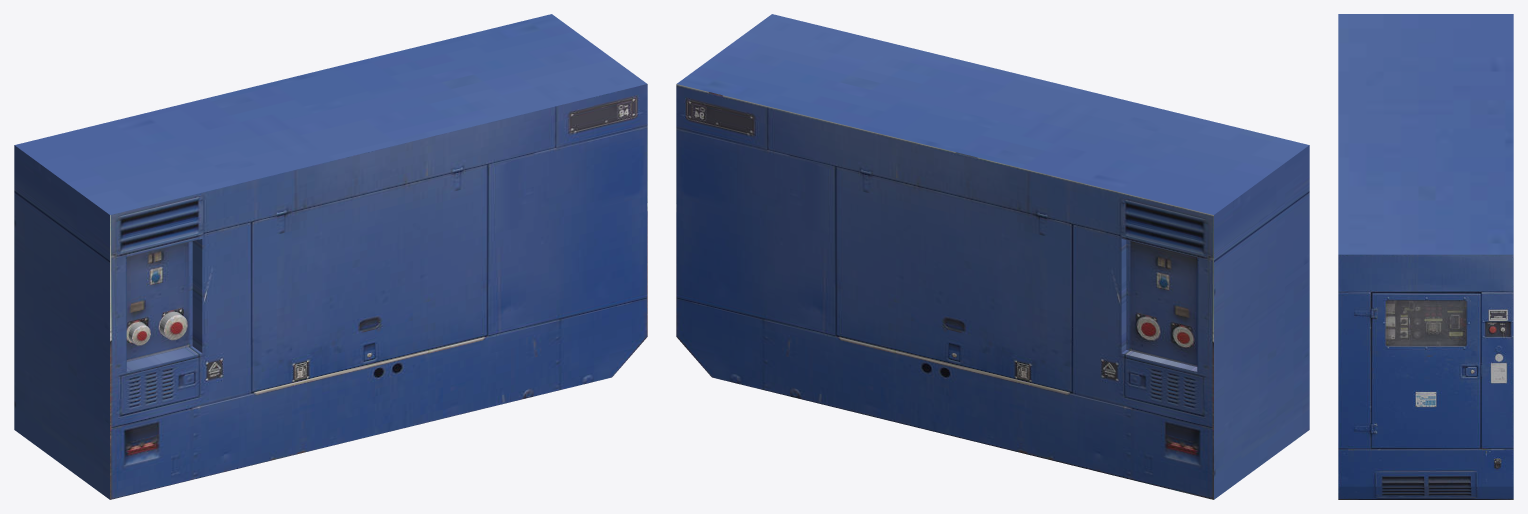
The model's file is generator.glb.
The picture shows the model from 3 angles, left to right: view 1: azimuth 30°, elevation 25°; view 2: azimuth 150°, elevation 25°; view 3: azimuth 270°, elevation 25°; orthographic projection. The views are drawn at different scales.
Visible parts, largest first — view 1: generator; view 2: generator; view 3: generator.
Boxes of the visible parts, left/top/right/bottom form: generator: left=14, top=14, right=647, bottom=499; generator: left=676, top=14, right=1309, bottom=499; generator: left=1338, top=14, right=1513, bottom=499.
Size of what is drawn, in the model's own units: 3.95 by 2 by 1.22.
2 materials, 2 textured.
